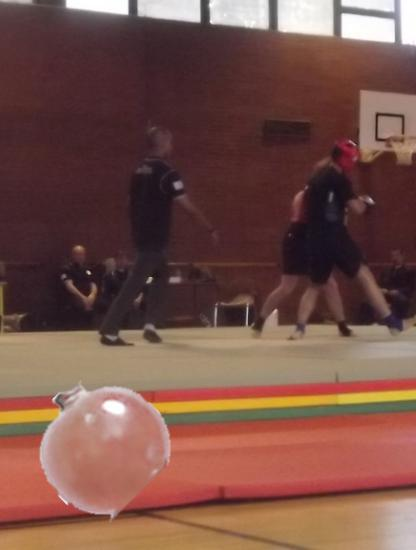Redcurrant: (34, 379, 166, 511)
